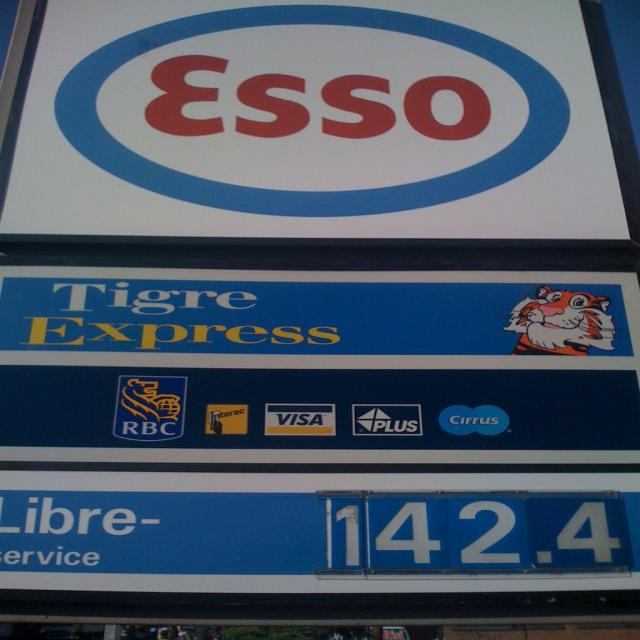esso: (44, 2, 578, 225)
